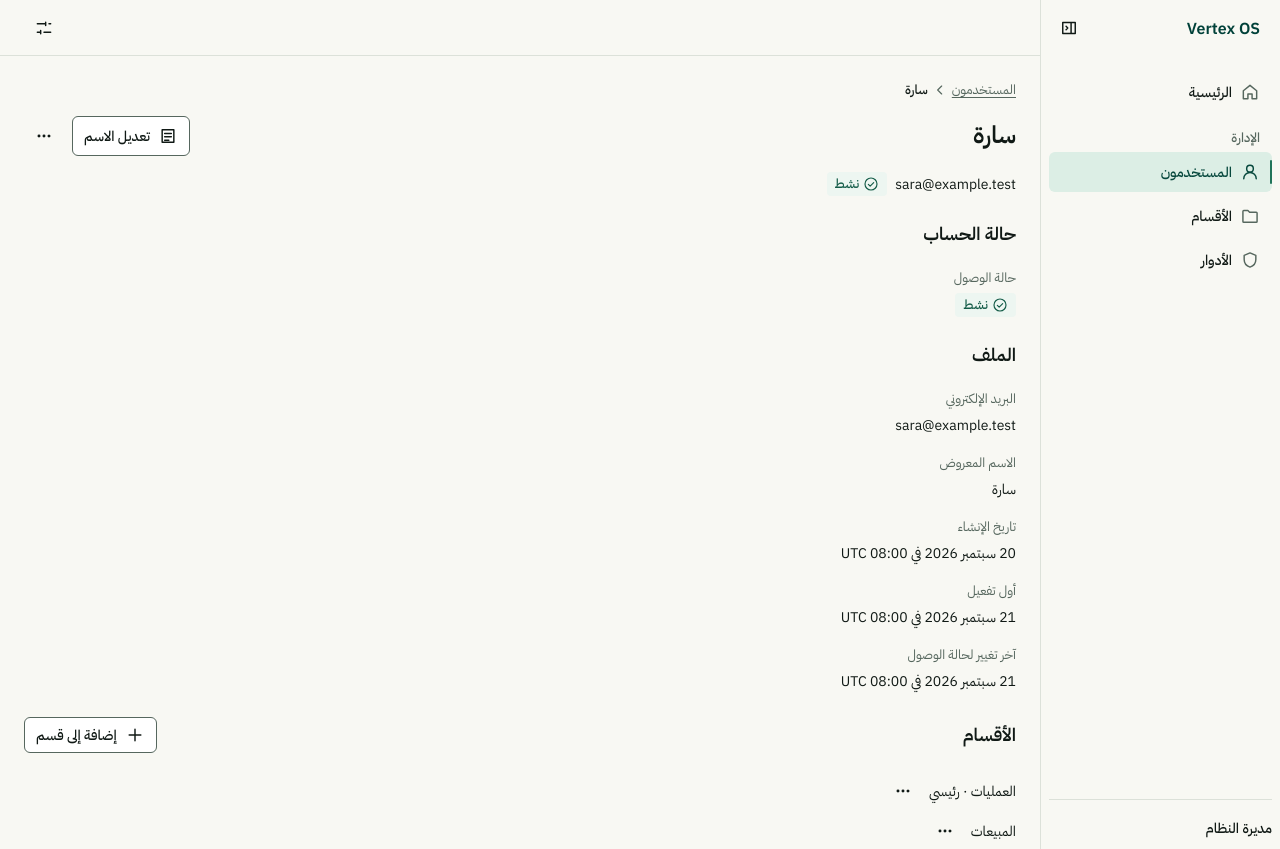
the user detail › reloads the user after a refusal that means its state changed
The width and height of the screenshot is (1280, 849).
Click the button named "إجراءات المستخدم" at (44, 136), box left=24, top=116, right=64, bottom=156
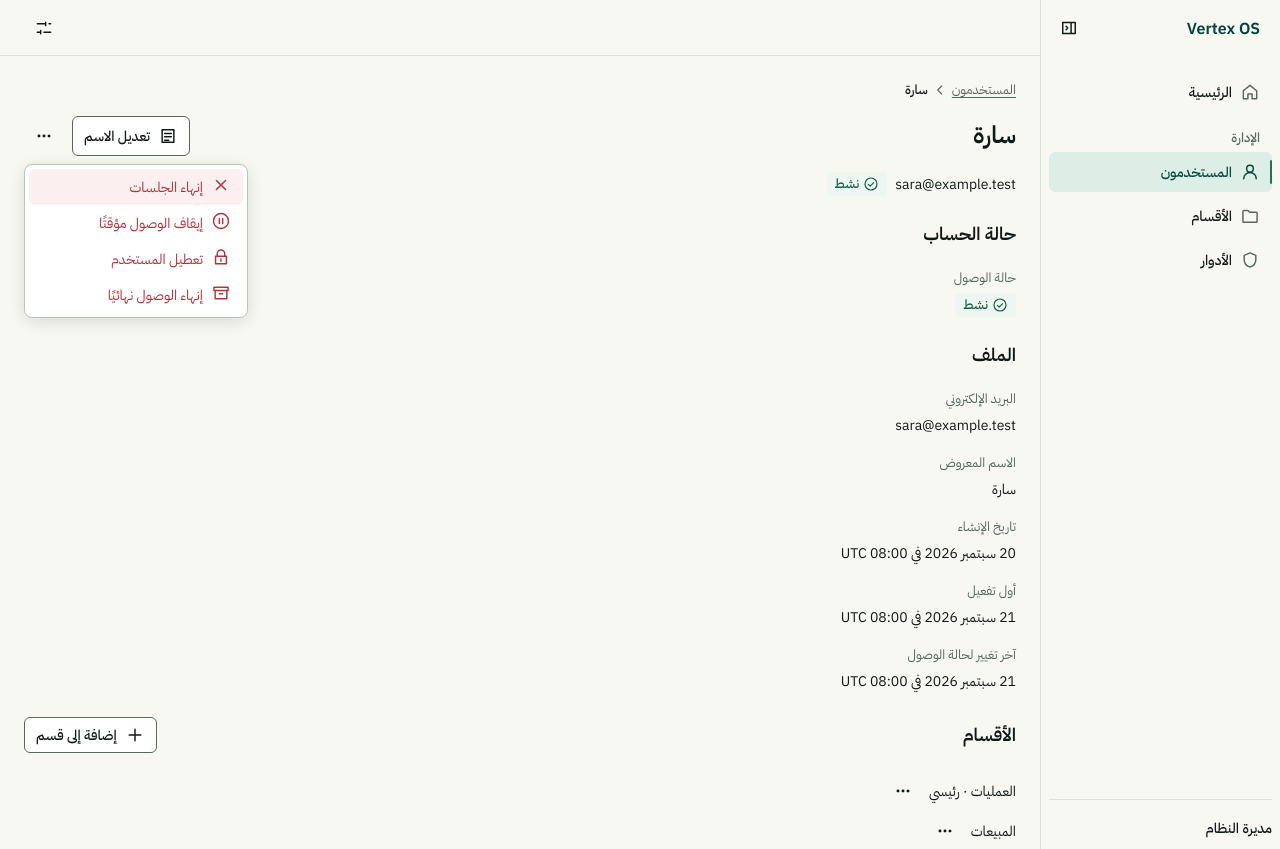
Click the menu item "إيقاف الوصول مؤقتًا" at (165, 222), box left=99, top=211, right=231, bottom=232
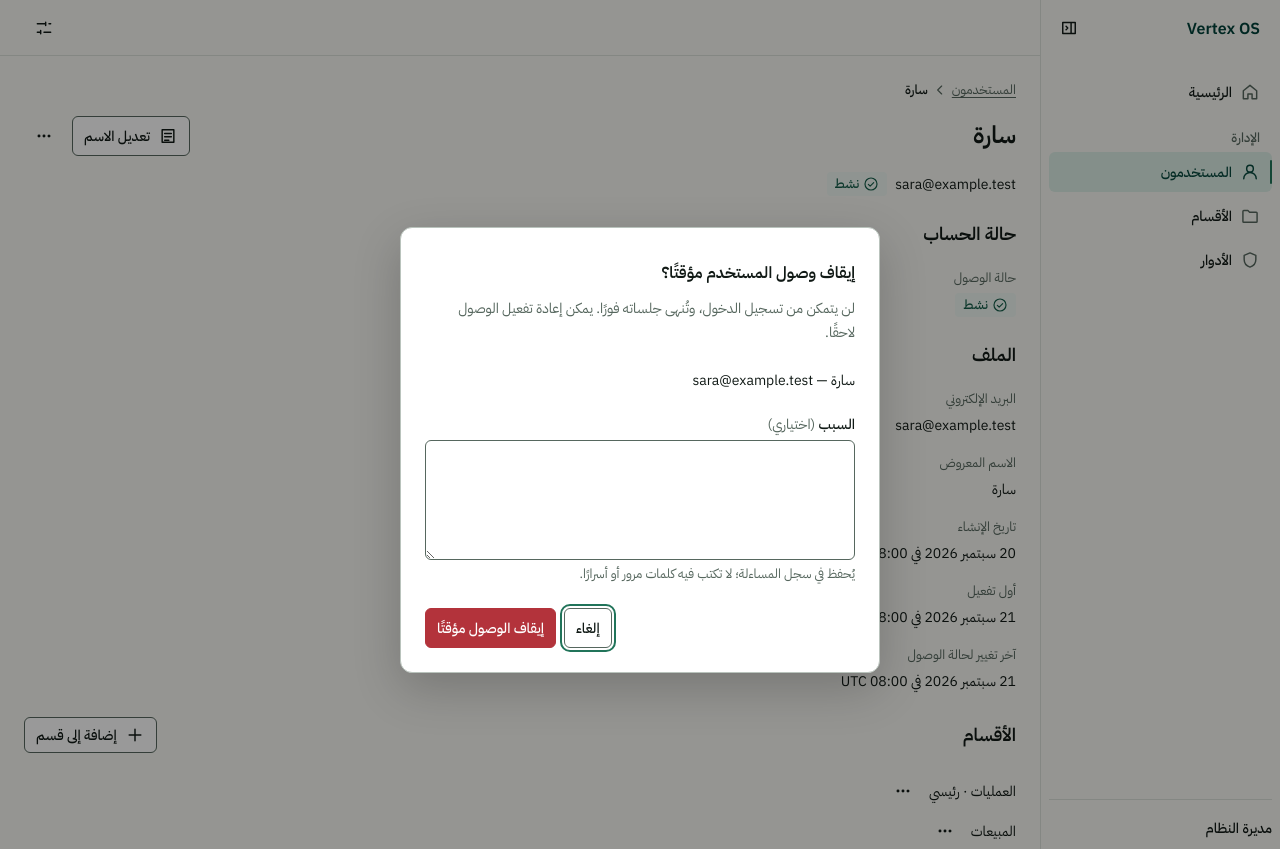
Click the button "إيقاف الوصول مؤقتًا" at (490, 628), box left=425, top=608, right=556, bottom=648
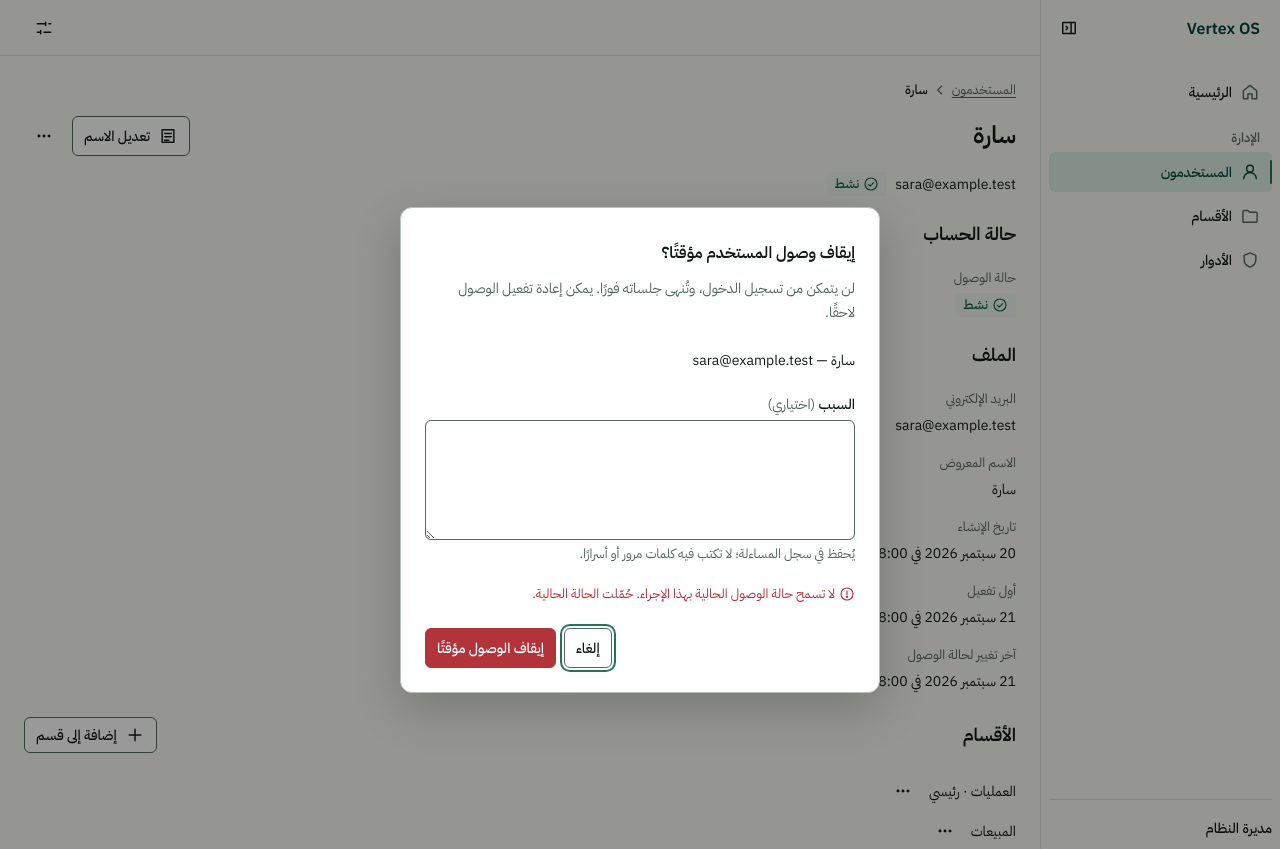
Now the text "لا تسمح حالة الوصول الحالية" is shown, box left=532, top=585, right=835, bottom=602
